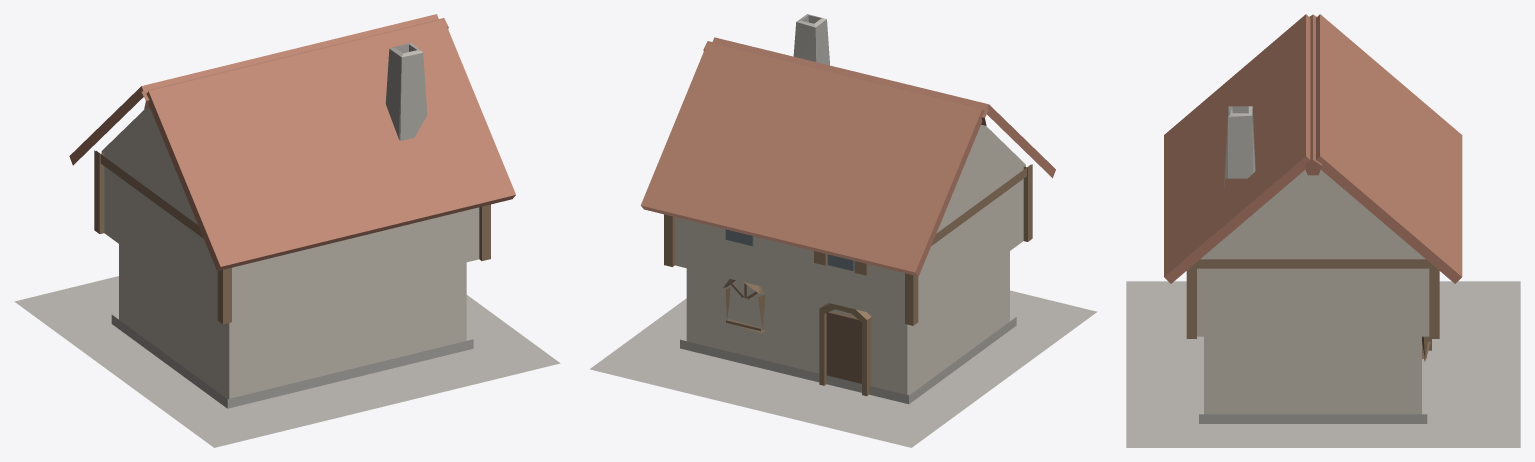
The model's file is house_citizens.v0.glb.
The picture shows the model from 3 angles, left to right: view 1: azimuth 30°, elevation 25°; view 2: azimuth 150°, elevation 25°; view 3: azimuth 270°, elevation 25°; orthographic projection. The views are drawn at different scales.
Parts seen in each view (by area): view 1: house_citizens; view 2: house_citizens; view 3: house_citizens.
Part boxes in pixels (<box>): house_citizens: <box>14,14,560,447</box>; house_citizens: <box>590,14,1097,447</box>; house_citizens: <box>1126,14,1520,447</box>.
Size of the model in its own units: 1.9 by 1.57 by 1.9.
